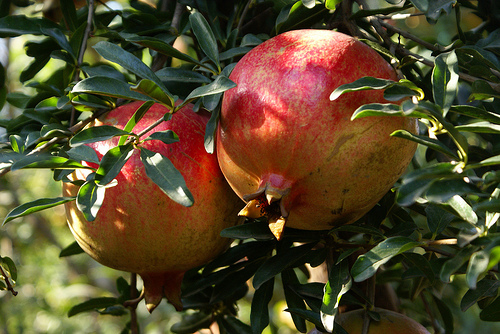pomogranate: (214, 25, 423, 239), (63, 98, 231, 313)
